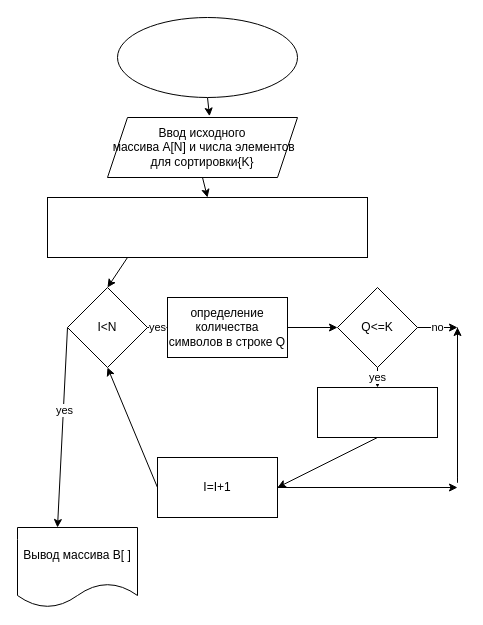
This 483x625 diagram has some shape labels left out. Each missing label, with the centre of its shape:
"B[y]=A[i] y=y+1" belongs at [377,412].
"Start" belongs at [207,57].
"Ввод переменных Счетчикb I,Y,Z =0 а также объявление пустых массивов" belongs at [207,227].
